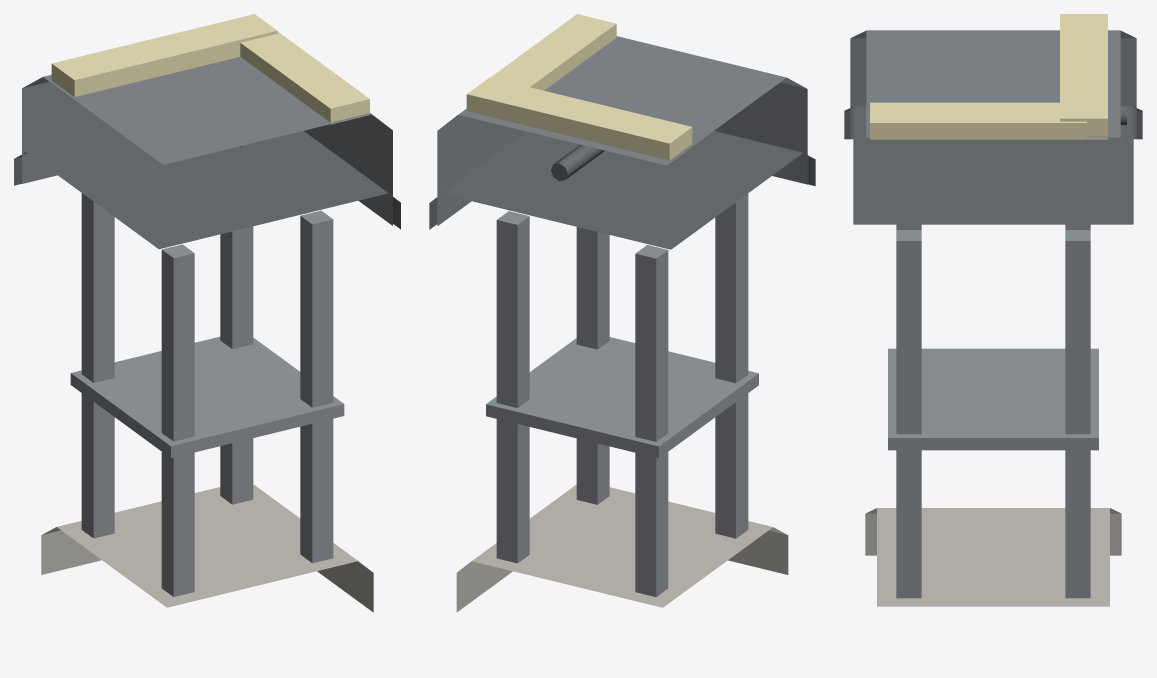
File: mg_tower.glb
The picture shows the model from 3 angles, left to right: view 1: azimuth 30°, elevation 25°; view 2: azimuth 150°, elevation 25°; view 3: azimuth 270°, elevation 25°; orthographic projection. The views are drawn at different scales.
Parts seen in each view (by area): view 1: Body; view 2: Body, Turret; view 3: Body.
Part boxes in pixels (x1=…): Body: x1=14, y1=14, x2=400, y2=612; Body: x1=429, y1=14, x2=815, y2=612; Turret: x1=551, y1=144, x2=604, y2=180; Body: x1=844, y1=14, x2=1142, y2=606.
Size of the model in its own units: 2.57 by 5.17 by 2.57.
